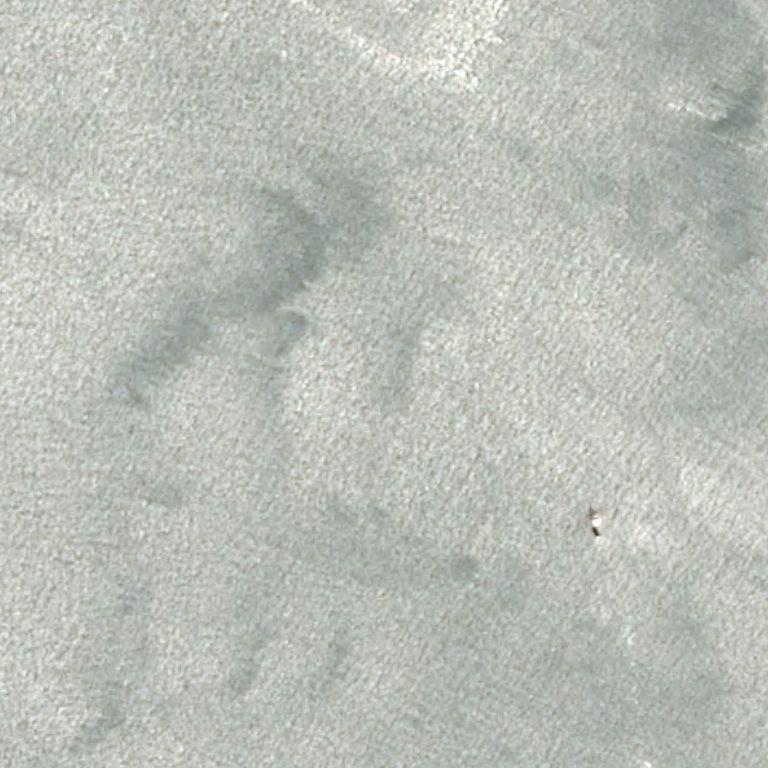ship: (593, 530, 598, 535), (594, 535, 598, 537), (592, 527, 594, 528), (600, 533, 601, 535)
